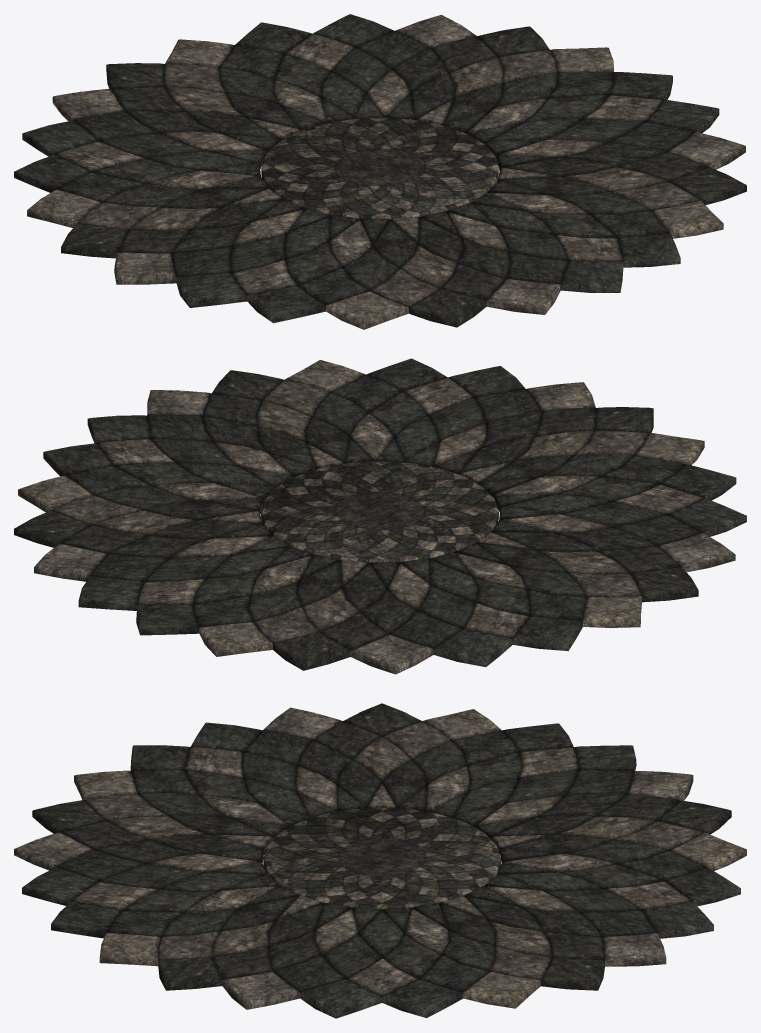
Rendered from church_floor_emblem.dae.
The picture shows the model from 3 angles, top to bottom: view 1: azimuth 30°, elevation 25°; view 2: azimuth 150°, elevation 25°; view 3: azimuth 270°, elevation 25°; orthographic projection.
Parts seen in each view (by area): view 1: church_floor_emblem; view 2: church_floor_emblem; view 3: church_floor_emblem.
Boxes of the visible parts, left/top/right/bottom form: church_floor_emblem: left=14, top=14, right=746, bottom=329; church_floor_emblem: left=14, top=358, right=746, bottom=674; church_floor_emblem: left=14, top=703, right=746, bottom=1018.
Size of the model in its own units: 16.87 by 0.1993 by 16.9.
